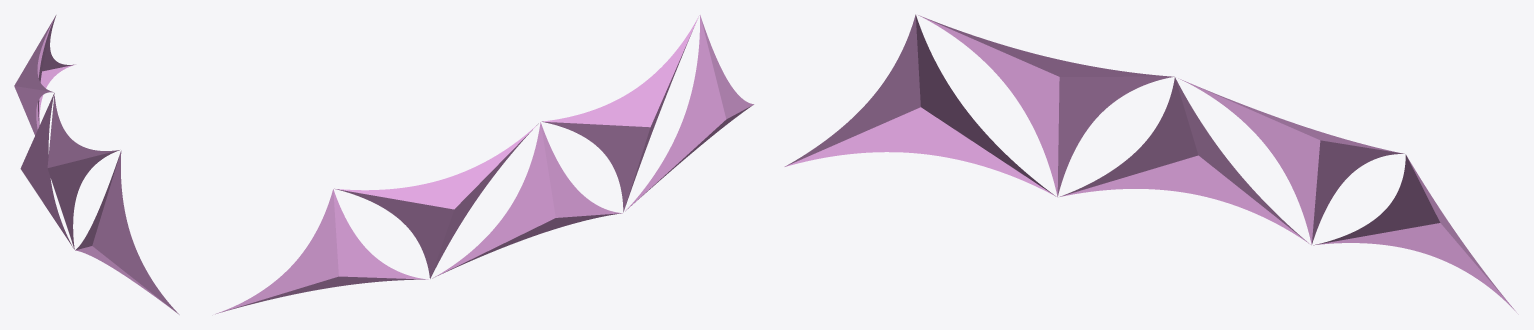
Rendered from TYPE10-5.glb.
3 views of the same model, side by side, from view 1: azimuth 30°, elevation 25°; view 2: azimuth 150°, elevation 25°; view 3: azimuth 270°, elevation 25° (orthographic). The views are drawn at different scales.
Visible parts, largest first — view 1: TYPE10-5 (×12); view 2: TYPE10-5 (×14); view 3: TYPE10-5 (×15).
Boxes of the visible parts, x1,y1,x2,y2 form: TYPE10-5 (×12): (14,15,179,314); TYPE10-5 (×14): (216,15,753,313); TYPE10-5 (×15): (785,14,1518,314).
Size of the model in its own units: 11.01 by 6.7 by 24.86.
